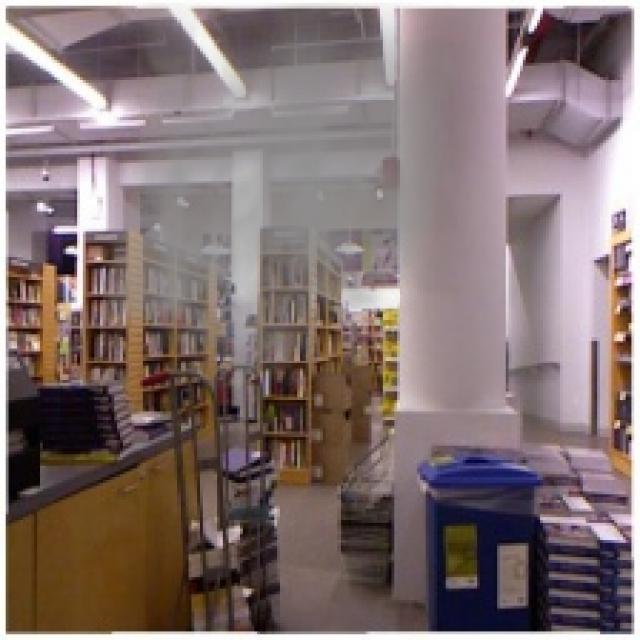smoke: (103, 3, 457, 403)
